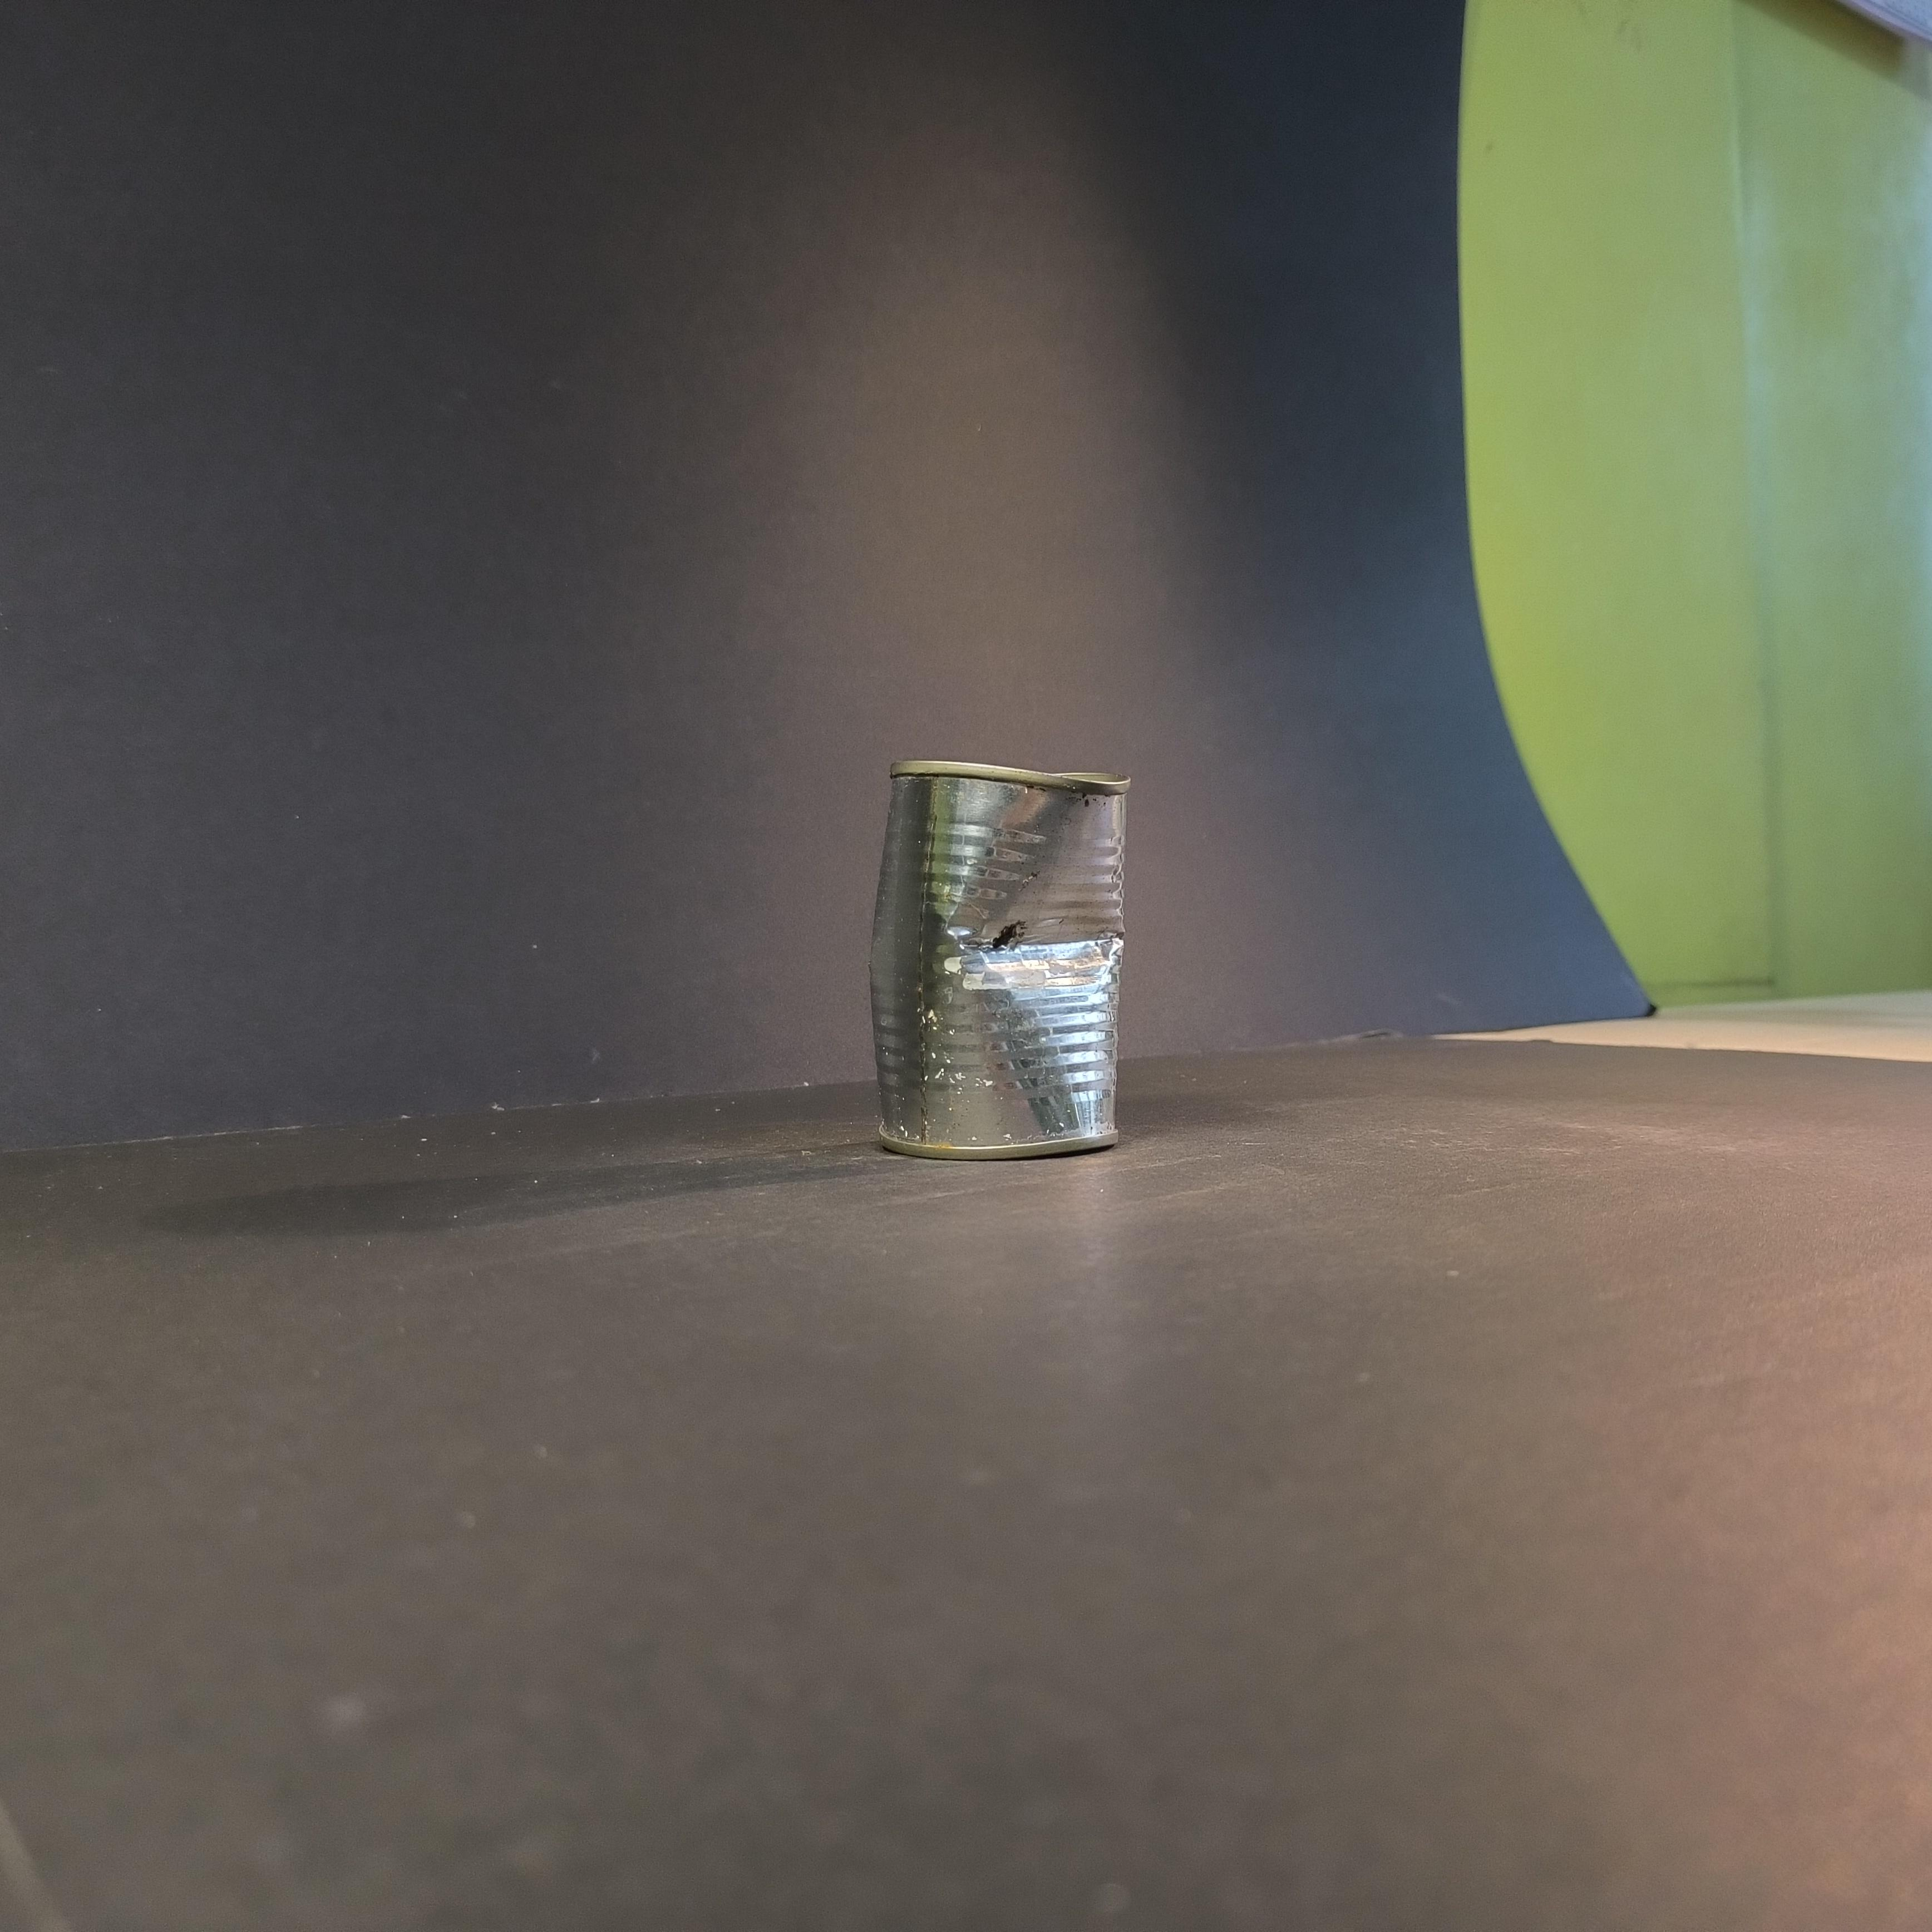Major Defect: (868, 760, 1132, 1160)
